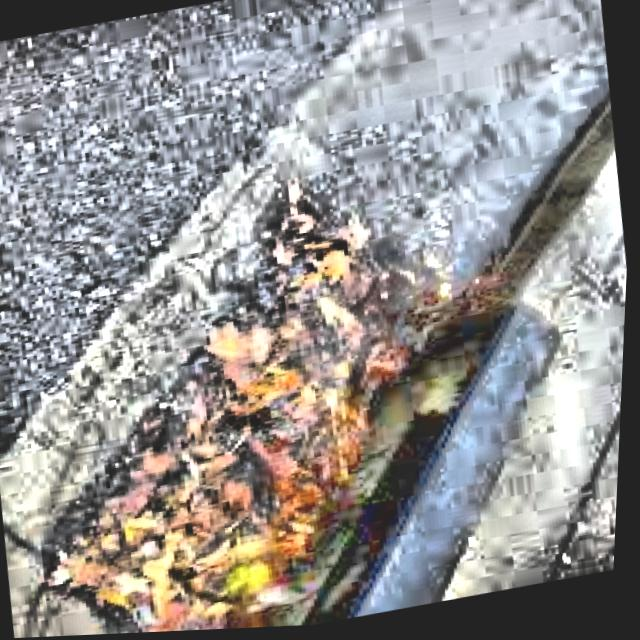clogged_drains: (0, 51, 604, 635)
